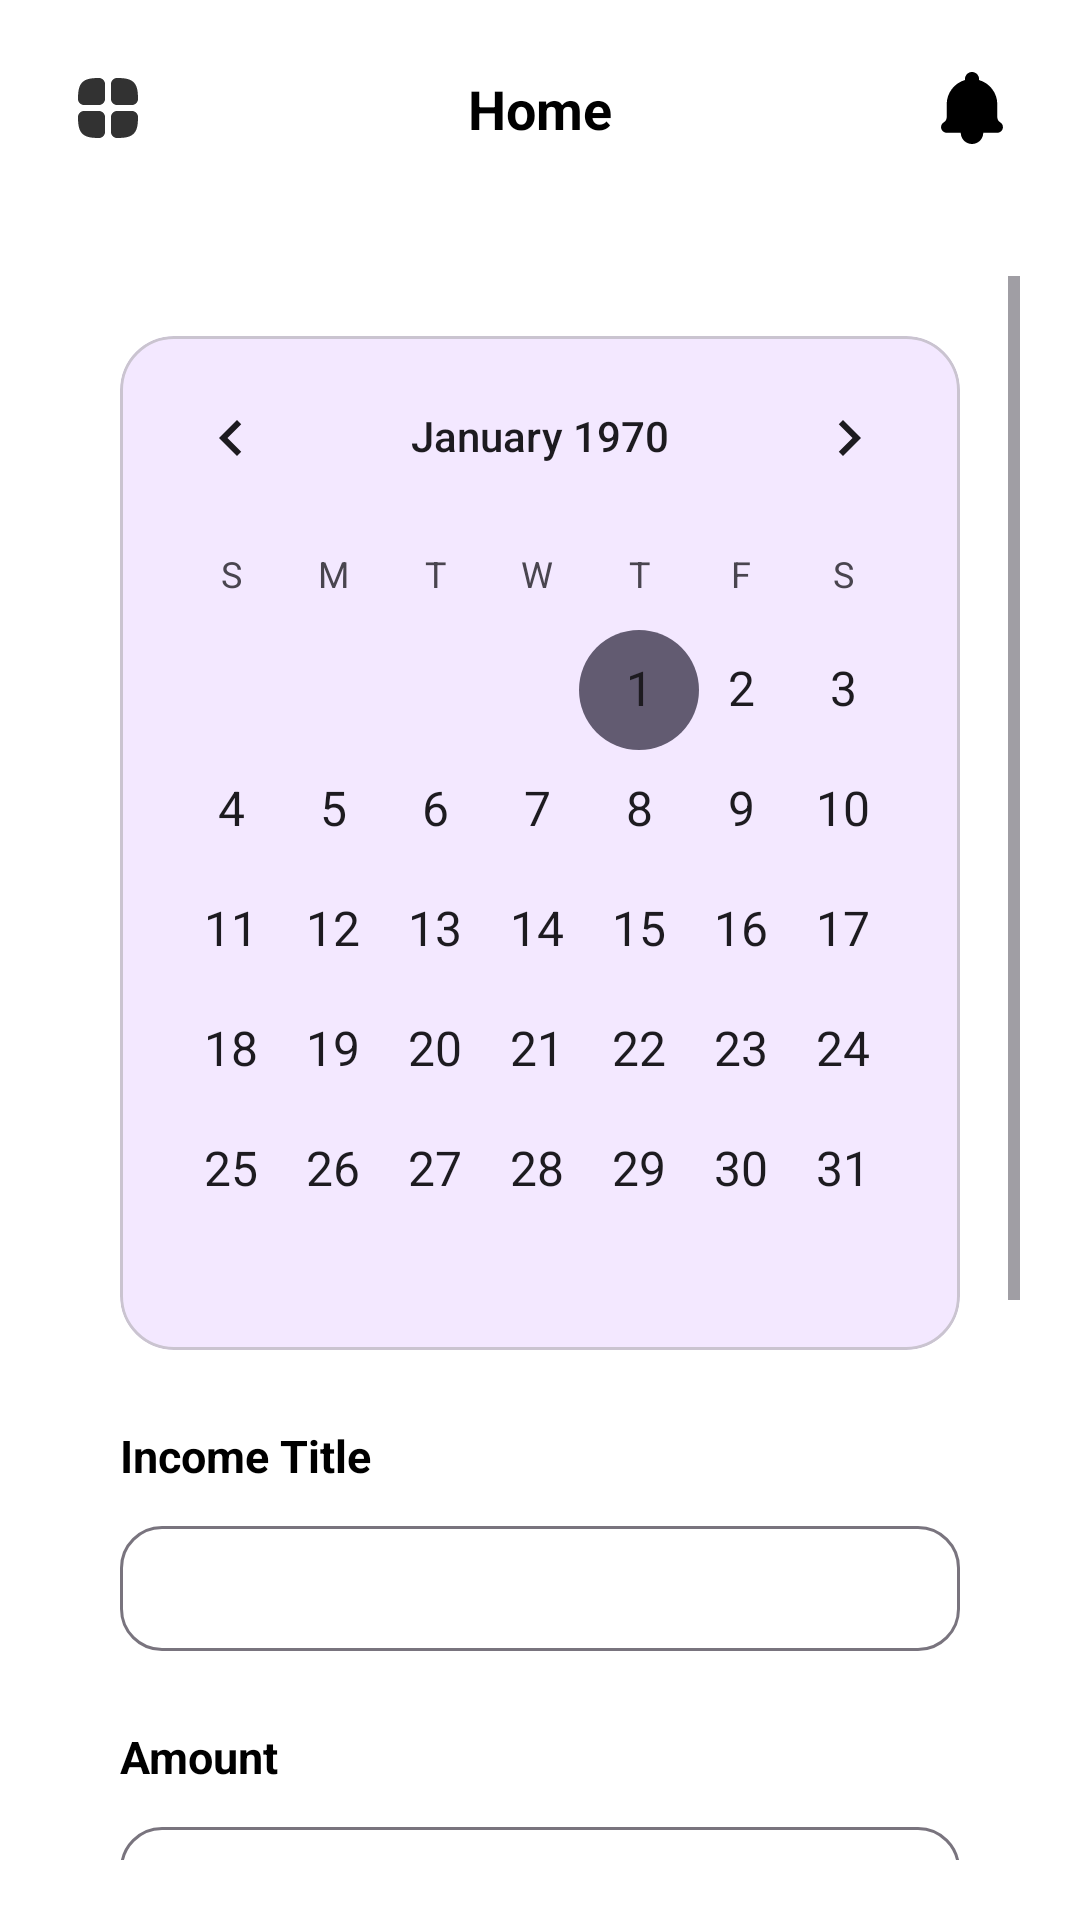

Icon bounding boxes for this 1080 x 1920 phone screenshot, format (x1, y1, x2, y2):
grid: (78, 78, 138, 138)
notifications: (941, 72, 1003, 144)
